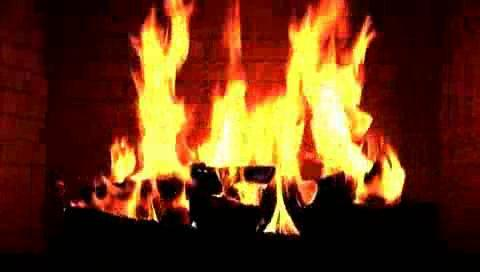fire: (89, 0, 480, 236)
